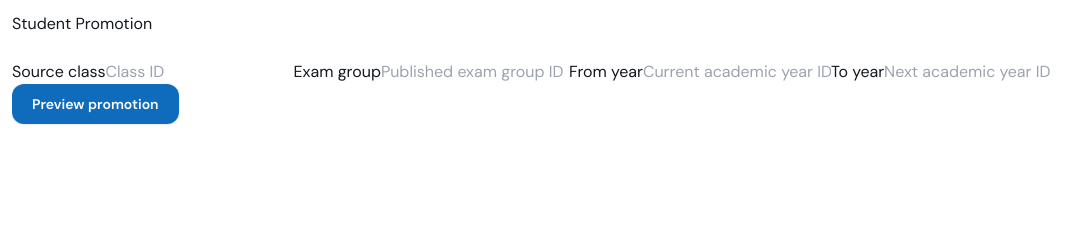
Test case: a D-011 blocker is EXPLAINED, not crashed › missing marks render the blocker with the missing pairs
Type "class-1" into the field labelled "Source class". click: (200, 72)
box: top-left (106, 60), bottom-right (294, 84)
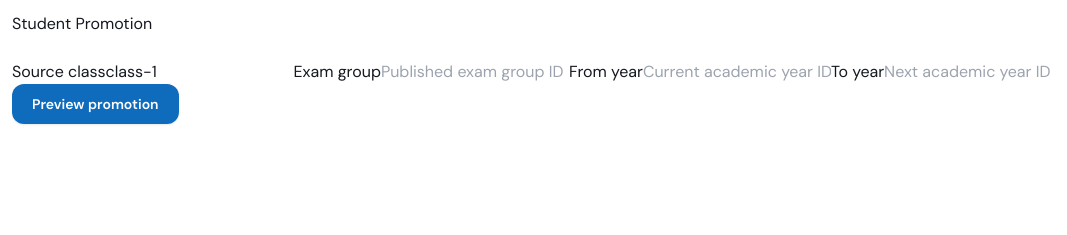
Type "group-1" into the field labelled "Exam group". click: (475, 72)
box: top-left (381, 60), bottom-right (569, 84)
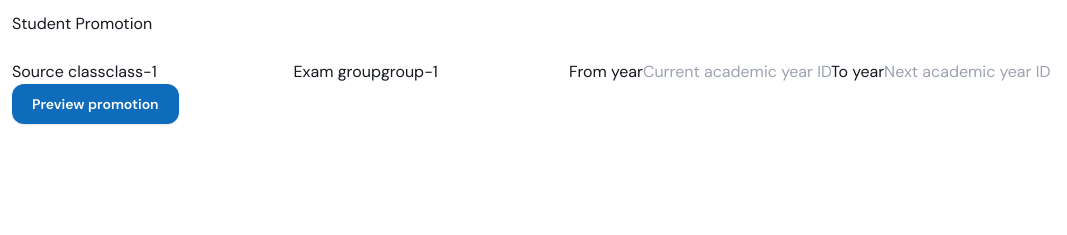
Type "year-26" into the field labelled "From year". click: (737, 72)
box: top-left (643, 60), bottom-right (831, 84)
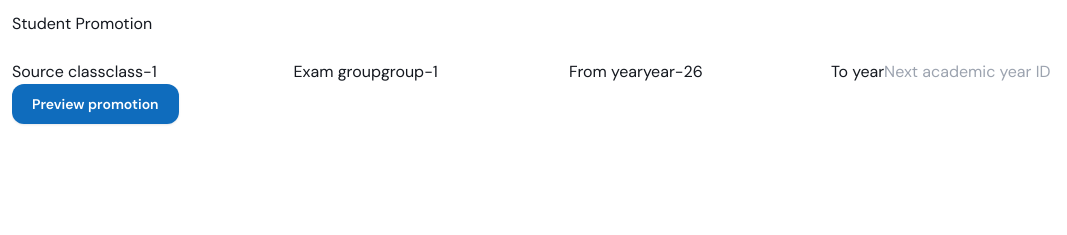
Click the button "Preview promotion". click: (95, 104)
box: top-left (12, 84), bottom-right (179, 124)
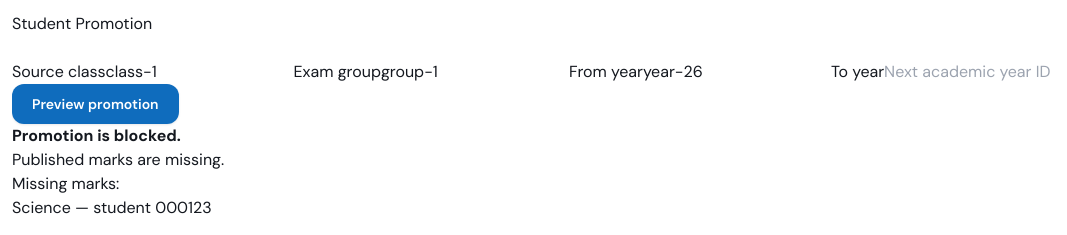
Expected: the text "Promotion is blocked." is shown, top-left (12, 125), bottom-right (181, 146)
Expected: the text "Published marks are missing." is shown, top-left (12, 149), bottom-right (224, 170)
Expected: the list item "Science — student 000123" is shown, top-left (12, 197), bottom-right (212, 218)
